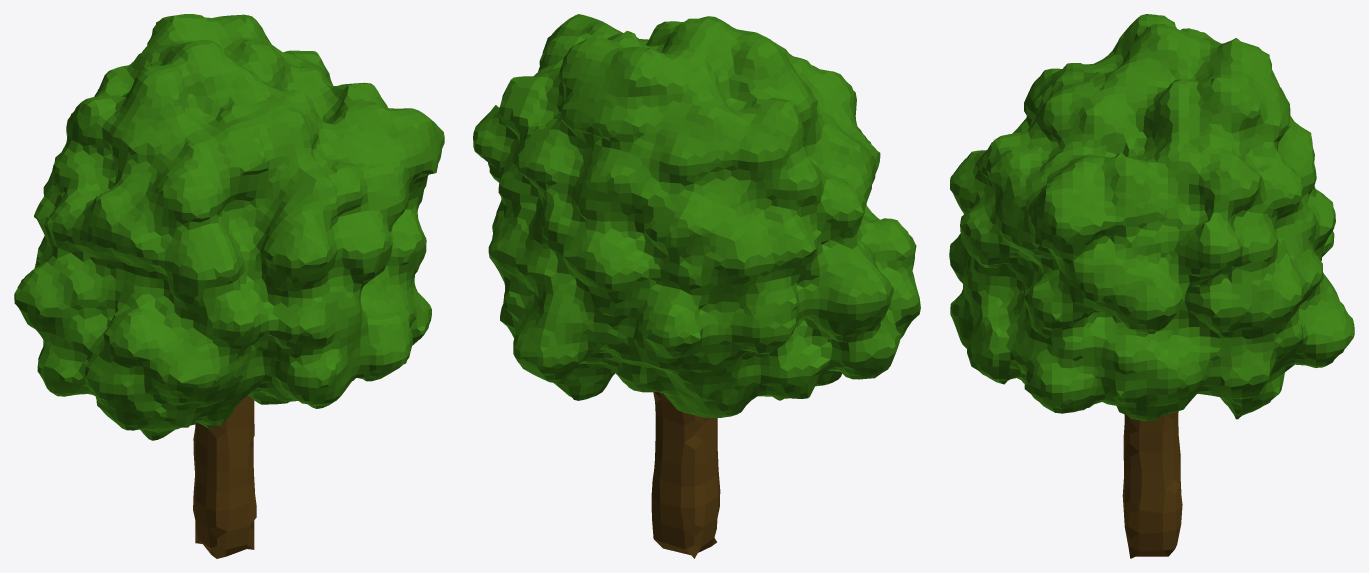
File: Tree1.fbx
3 renders of one model, left to right at view 1: azimuth 30°, elevation 25°; view 2: azimuth 150°, elevation 25°; view 3: azimuth 270°, elevation 25°, orthographic. The views are drawn at different scales.
Visible parts, largest first — view 1: Tree1; view 2: Tree1; view 3: Tree1.
Boxes of the visible parts, <box> form: Tree1: <box>14,14,444,558</box>; Tree1: <box>473,14,920,558</box>; Tree1: <box>949,14,1354,558</box>.
Bounding box in the file's own units: 1276 × 1602 × 1152.
